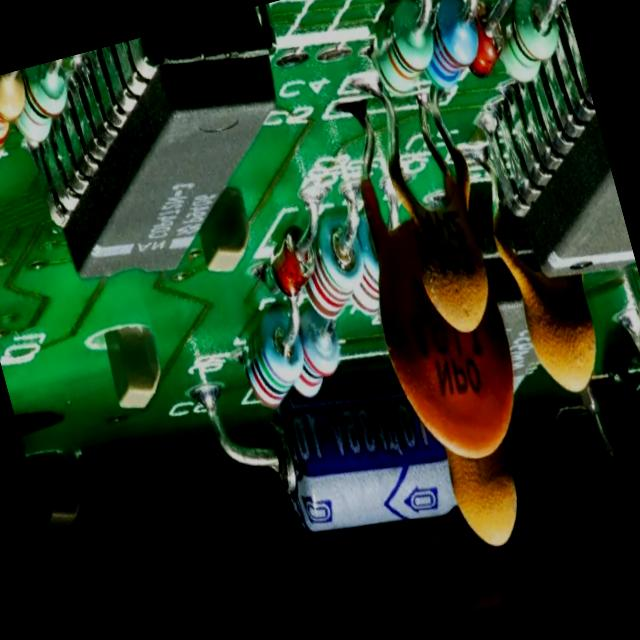IC: (15, 3, 328, 301)
ceramic capacitor: (347, 148, 543, 471), (363, 73, 511, 341), (478, 134, 614, 402)
resistor: (230, 294, 312, 411), (296, 210, 378, 321), (274, 302, 355, 410), (411, 0, 482, 95), (359, 0, 433, 88), (490, 0, 564, 79)
zener diode: (255, 210, 325, 315), (455, 0, 523, 91)
